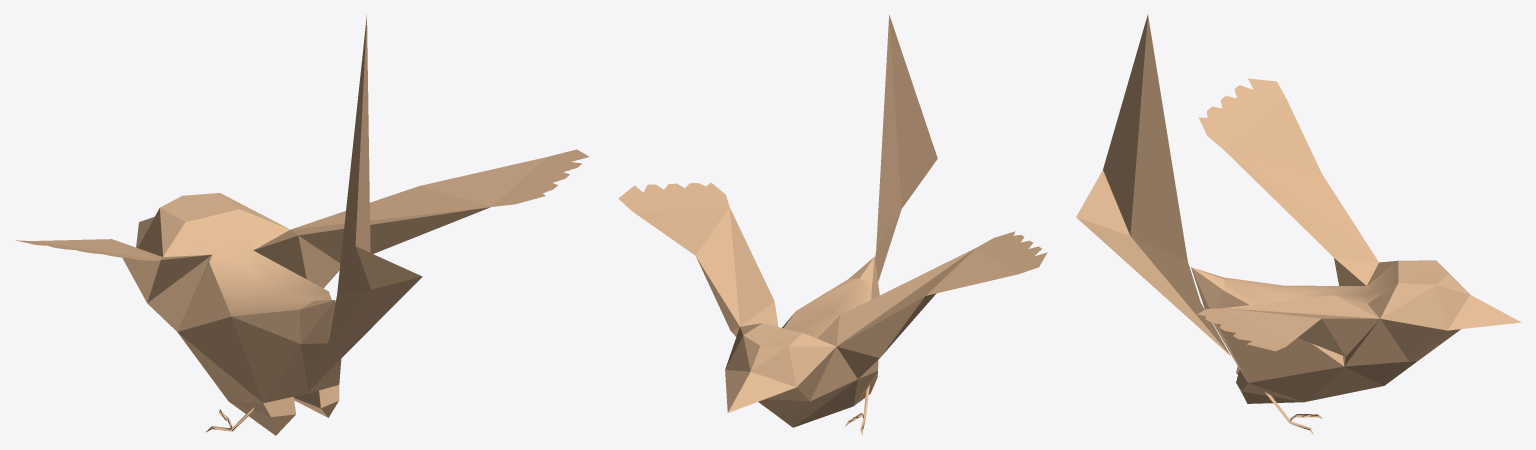
File: PajaroPose02.fbx
3 views of the same model, side by side, from view 1: azimuth 30°, elevation 25°; view 2: azimuth 150°, elevation 25°; view 3: azimuth 270°, elevation 25° (orthographic). The views are drawn at different scales.
Parts seen in each view (by area): view 1: Plane.001_Body_1_0.001; view 2: Plane.001_Body_1_0.001; view 3: Plane.001_Body_1_0.001.
Part boxes in pixels (x1=…): Plane.001_Body_1_0.001: x1=15, y1=15, x2=589, y2=435; Plane.001_Body_1_0.001: x1=618, y1=15, x2=1047, y2=435; Plane.001_Body_1_0.001: x1=1076, y1=14, x2=1521, y2=434.
Bounding box in the file's own units: 7196 × 5861 × 5818.
